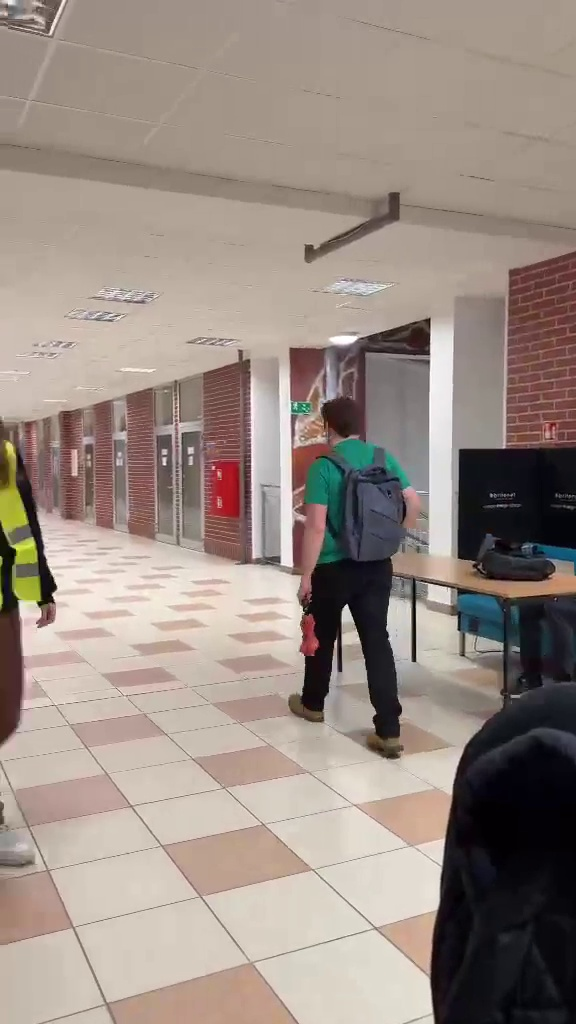no vest: (302, 388, 421, 772)
vest: (0, 398, 70, 891)
